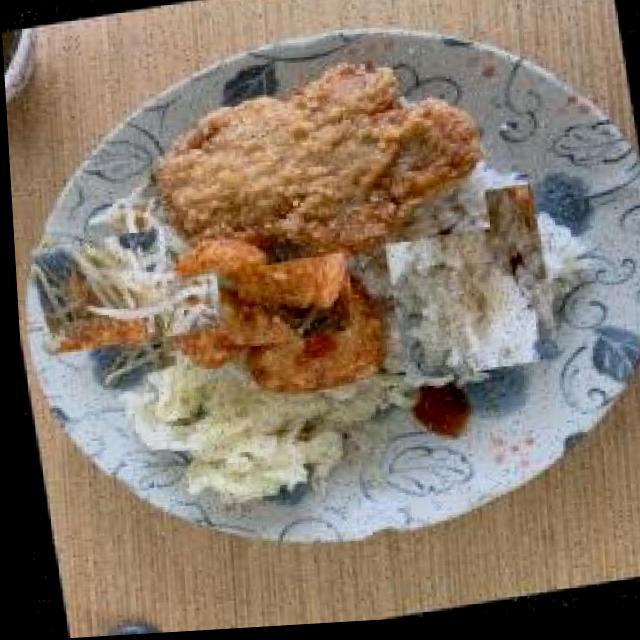chinese_cabbage: (144, 331, 385, 507)
fried_chicken: (144, 58, 489, 283)
mung_bean_sprouts: (42, 206, 207, 372)
rice: (370, 193, 562, 384)
triangle_hash_brown: (158, 206, 378, 426)
